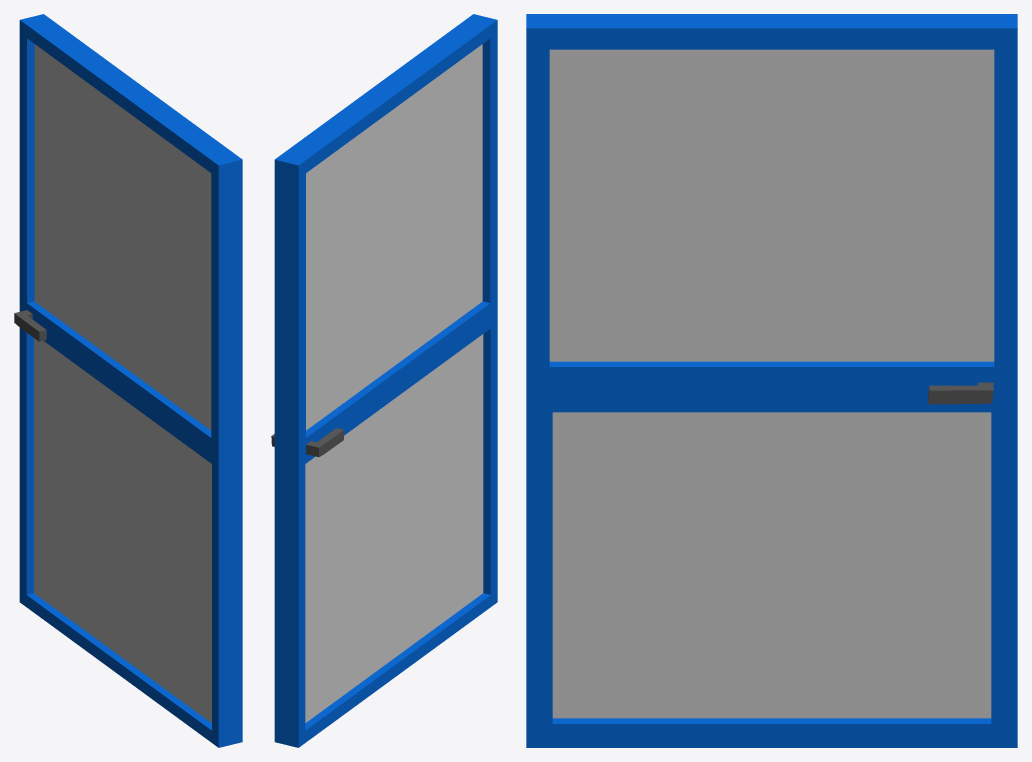
Rendered from door.fbx.
3 renders of one model, left to right at view 1: azimuth 30°, elevation 25°; view 2: azimuth 150°, elevation 25°; view 3: azimuth 270°, elevation 25°, orthographic. The views are drawn at different scales.
Visible parts, largest first — view 1: Cube; view 2: Cube; view 3: Cube.
Part boxes in pixels (<box>): Cube: <box>14,14,242,747</box>; Cube: <box>271,14,497,747</box>; Cube: <box>526,14,1017,747</box>.
Size of the model in its own units: 17.97 by 200 by 124.
